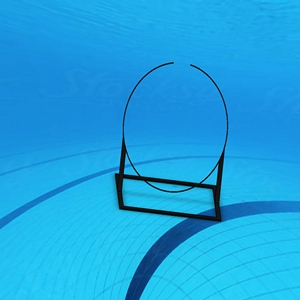circle: (113, 59, 229, 224)
